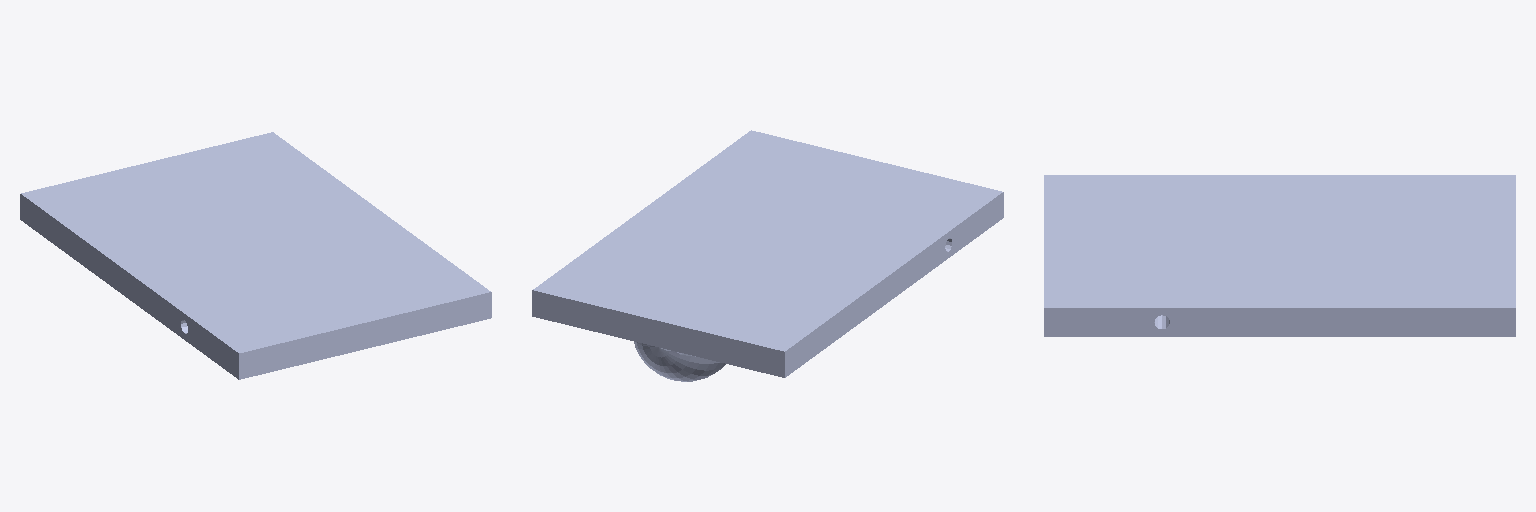
The robot description file, URDF, robot "demo_car22":
<robot
  name="demo_car22">
  <link
    name="base_link">
    <inertial>
      <origin
        xyz="8.6736E-19 0.042753 0.0014737"
        rpy="0 0 0" />
      <mass
        value="1" />
      <inertia
        ixx="0.00032204"
        ixy="-2.1271E-20"
        ixz="3.0622E-22"
        iyy="0.0001277"
        iyz="8.4706E-06"
        izz="0.00044301" />
    </inertial>
    <visual>
      <origin
        xyz="0 0 0"
        rpy="0 0 0" />
      <geometry>
        <mesh
          filename="package://demo_car22/meshes/base_link.STL" />
      </geometry>
      <material
        name="">
        <color
          rgba="0.79216 0.81961 0.93333 1" />
      </material>
    </visual>
    <collision>
      <origin
        xyz="0 0 0"
        rpy="0 0 0" />
      <geometry>
        <mesh
          filename="package://demo_car22/meshes/base_link.STL" />
      </geometry>
    </collision>
  </link>
  <link
    name="R_Link">
    <inertial>
      <origin
        xyz="0 0.005 2.7756E-17"
        rpy="0 0 0" />
      <mass
        value="0.1" />
      <inertia
        ixx="3.2296E-06"
        ixy="-4.2812E-38"
        ixz="1.3256E-37"
        iyy="6.1353E-06"
        iyz="4.1135E-22"
        izz="3.2296E-06" />
    </inertial>
    <visual>
      <origin
        xyz="0 0 0"
        rpy="0 0 0" />
      <geometry>
        <mesh
          filename="package://demo_car22/meshes/R_Link.STL" />
      </geometry>
      <material
        name="">
        <color
          rgba="0.79216 0.81961 0.93333 1" />
      </material>
    </visual>
    <collision>
      <origin
        xyz="0 0 0"
        rpy="0 0 0" />
      <geometry>
        <mesh
          filename="package://demo_car22/meshes/R_Link.STL" />
      </geometry>
    </collision>
  </link>
  <joint
    name="Joint_R"
    type="continuous">
    <origin
      xyz="0.051 0 0.0025"
      rpy="1.5707963267949 1.5707963267949 0" />
    <parent
      link="base_link" />
    <child
      link="R_Link" />
    <axis
      xyz="0 -1 0" />
  </joint>
  <link
    name="L_Link">
    <inertial>
      <origin
        xyz="0 -0.005 0"
        rpy="0 0 0" />
      <mass
        value="0.1" />
      <inertia
        ixx="3.2296E-06"
        ixy="-5.9881E-39"
        ixz="2.0404E-37"
        iyy="6.1353E-06"
        iyz="4.108E-22"
        izz="3.2296E-06" />
    </inertial>
    <visual>
      <origin
        xyz="0 0 0"
        rpy="0 0 0" />
      <geometry>
        <mesh
          filename="package://demo_car22/meshes/L_Link.STL" />
      </geometry>
      <material
        name="">
        <color
          rgba="0.79216 0.81961 0.93333 1" />
      </material>
    </visual>
    <collision>
      <origin
        xyz="0 0 0"
        rpy="0 0 0" />
      <geometry>
        <mesh
          filename="package://demo_car22/meshes/L_Link.STL" />
      </geometry>
    </collision>
  </link>
  <joint
    name="Joint_L"
    type="continuous">
    <origin
      xyz="-0.051 0 0.0025"
      rpy="1.5707963267949 1.5707963267949 0" />
    <parent
      link="base_link" />
    <child
      link="L_Link" />
    <axis
      xyz="0 -1 0" />
  </joint>
</robot>

--- Render facts (derived) ---
Views: 3 orthographic renders of the robot side by side, from view 1: azimuth 30°, elevation 25°; view 2: azimuth 150°, elevation 25°; view 3: azimuth 270°, elevation 25°.
Model demo_car22 with 3 links and 2 joints (2 continuous), rooted at base_link, posed every joint at zero.
Visible links, largest first — view 1: base_link; view 2: base_link; view 3: base_link.
Link boxes in pixels (box(x1,y1,x2,y2)): base_link: box(20, 132, 491, 379); base_link: box(532, 130, 1003, 381); base_link: box(1044, 175, 1515, 336).
Size in the robot's own frame: 0.1 by 0.15 by 0.0285 metres.
1 mesh visuals loaded from 3 distinct referenced files (1 binary STL); not drawn: 2 (reference not matched to a file when rendering).